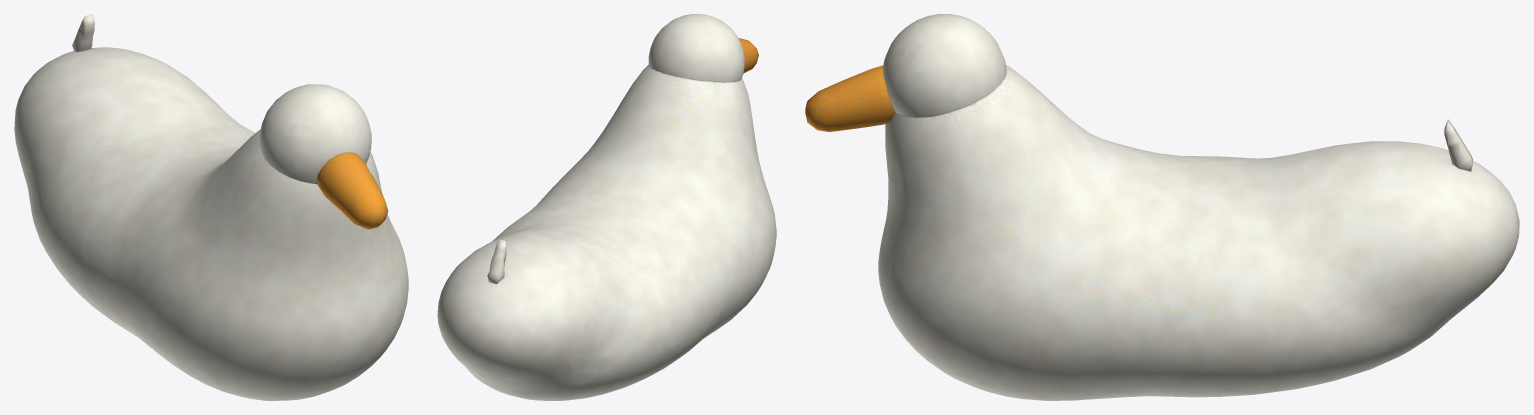
The model's file is animal_pekin_duck.glb.
3 renders of one model, left to right at view 1: azimuth 30°, elevation 25°; view 2: azimuth 150°, elevation 25°; view 3: azimuth 270°, elevation 25°, orthographic. The views are drawn at different scales.
Parts seen in each view (by area): view 1: animal_pekin_duck, head; view 2: animal_pekin_duck, head; view 3: animal_pekin_duck, head.
Part boxes in pixels (bbox=[...]): animal_pekin_duck: bbox=[14, 14, 408, 400]; head: bbox=[260, 84, 388, 229]; animal_pekin_duck: bbox=[437, 65, 776, 400]; head: bbox=[648, 14, 758, 82]; animal_pekin_duck: bbox=[878, 65, 1519, 400]; head: bbox=[805, 14, 1006, 132].
Bounding box in the file's own units: 0.1576 × 0.2036 × 0.3615.
1 material, 1 textured.
